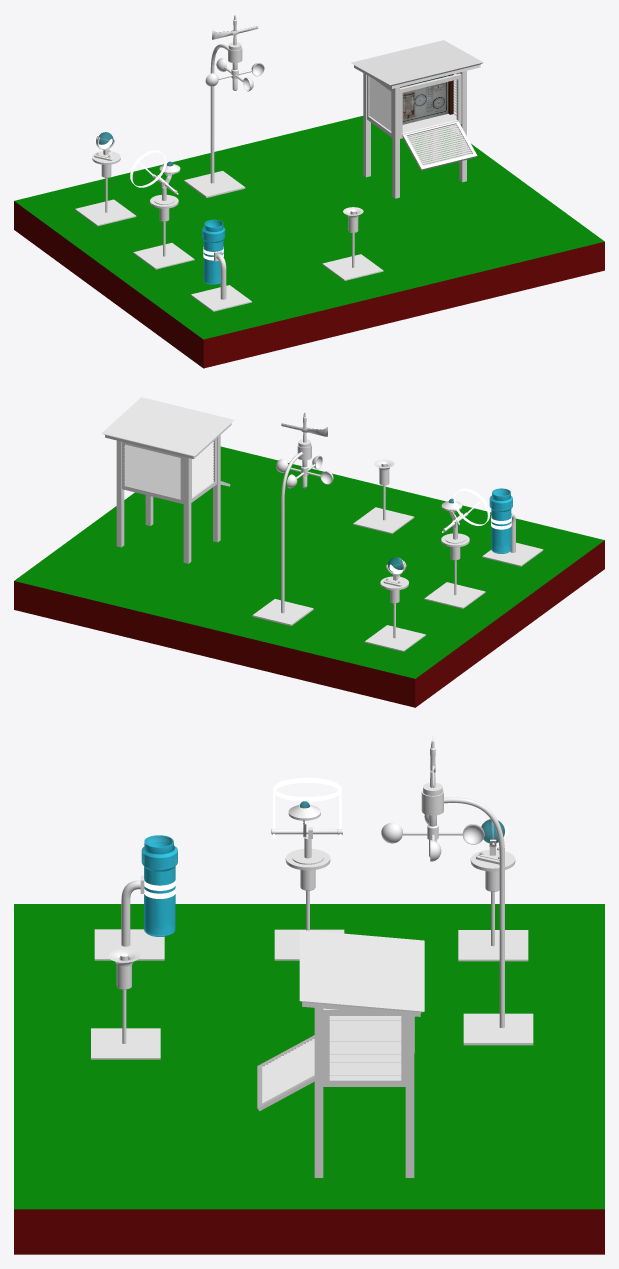
The model's file is estacion.glb.
The picture shows the model from 3 angles, top to bottom: view 1: azimuth 30°, elevation 25°; view 2: azimuth 150°, elevation 25°; view 3: azimuth 270°, elevation 25°; orthographic projection. The views are drawn at different scales.
Visible parts, largest first — view 1: Plane.007, Plane.006_0, Cube.005, Circle.021, Cube.012, Plane.001, Plane.005, Plane.004, Plane.003, Cube.010, Circle.002, Circle.019 (+5 smaller); view 2: Plane.007, Plane.006_0, Cube.005, Cube.011, Circle.002, Plane.004, Plane.001, Plane.005, Plane.003, Cube.010, Circle.020, Plane.002 (+6 smaller); view 3: Plane.007, Plane.006_0, Cube.009, Cube.005, Circle.002, Plane.001, Plane.003, Plane.005, Cube.012, Circle.017, Plane.002, BezierCurve (+9 smaller).
Boxes of the visible parts, <box> form: Plane.007: <box>14,116,604,368</box>; Plane.006_0: <box>351,40,483,88</box>; Cube.005: <box>363,71,466,198</box>; Circle.021: <box>400,74,453,124</box>; Cube.012: <box>407,124,472,165</box>; Plane.001: <box>184,171,245,197</box>; Plane.005: <box>75,199,136,226</box>; Plane.004: <box>133,243,194,269</box>; Plane.003: <box>322,254,383,280</box>; Cube.010: <box>369,76,391,131</box>; Circle.002: <box>202,226,225,284</box>; Circle.019: <box>400,73,461,138</box>; Plane.007: <box>14,446,604,707</box>; Plane.006_0: <box>101,397,234,458</box>; Cube.005: <box>116,435,220,563</box>; Cube.011: <box>124,444,180,498</box>; Circle.002: <box>489,493,512,553</box>; Plane.004: <box>424,582,485,608</box>; Plane.001: <box>252,599,313,625</box>; Plane.005: <box>364,625,425,651</box>; Plane.003: <box>353,507,414,533</box>; Cube.010: <box>192,441,213,496</box>; Circle.020: <box>122,442,183,503</box>; Plane.002: <box>482,542,543,566</box>; Plane.007: <box>14,904,604,1254</box>; Plane.006_0: <box>299,930,424,1016</box>; Cube.009: <box>329,1016,401,1079</box>; Cube.005: <box>314,1008,414,1177</box>; Circle.002: <box>141,844,177,936</box>; Plane.001: <box>463,1013,533,1045</box>; Plane.003: <box>91,1028,160,1059</box>; Plane.005: <box>458,930,528,961</box>; Cube.012: <box>262,1039,314,1102</box>; Circle.017: <box>323,1008,405,1086</box>; Plane.002: <box>94,929,164,960</box>; BezierCurve: <box>443,797,504,1028</box>.
Bounding box in the file's own units: 9.02 × 4.62 × 7.38.
Materials: 10 (1 with a texture image).
